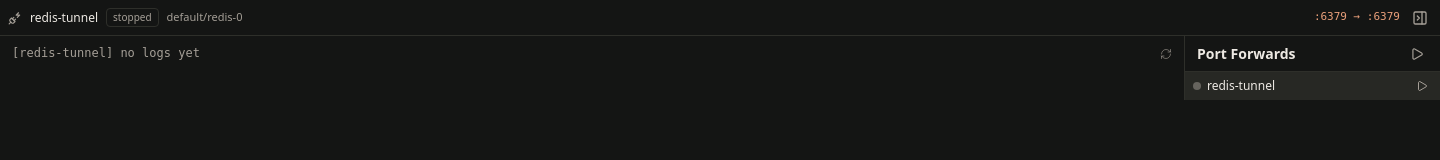
Test case: RuntimePanel — port-forward controls › shows error when PF action is rejected
Click the button named "Start redis-tunnel". click: (1422, 86)
box: [1412, 76, 1432, 96]
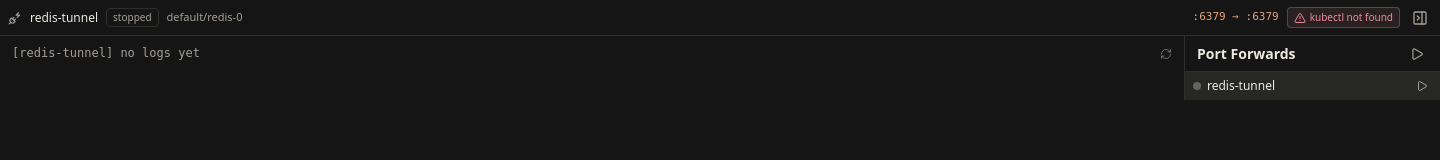
Expected: the message reads "kubectl not found", [1310, 10, 1393, 24]
